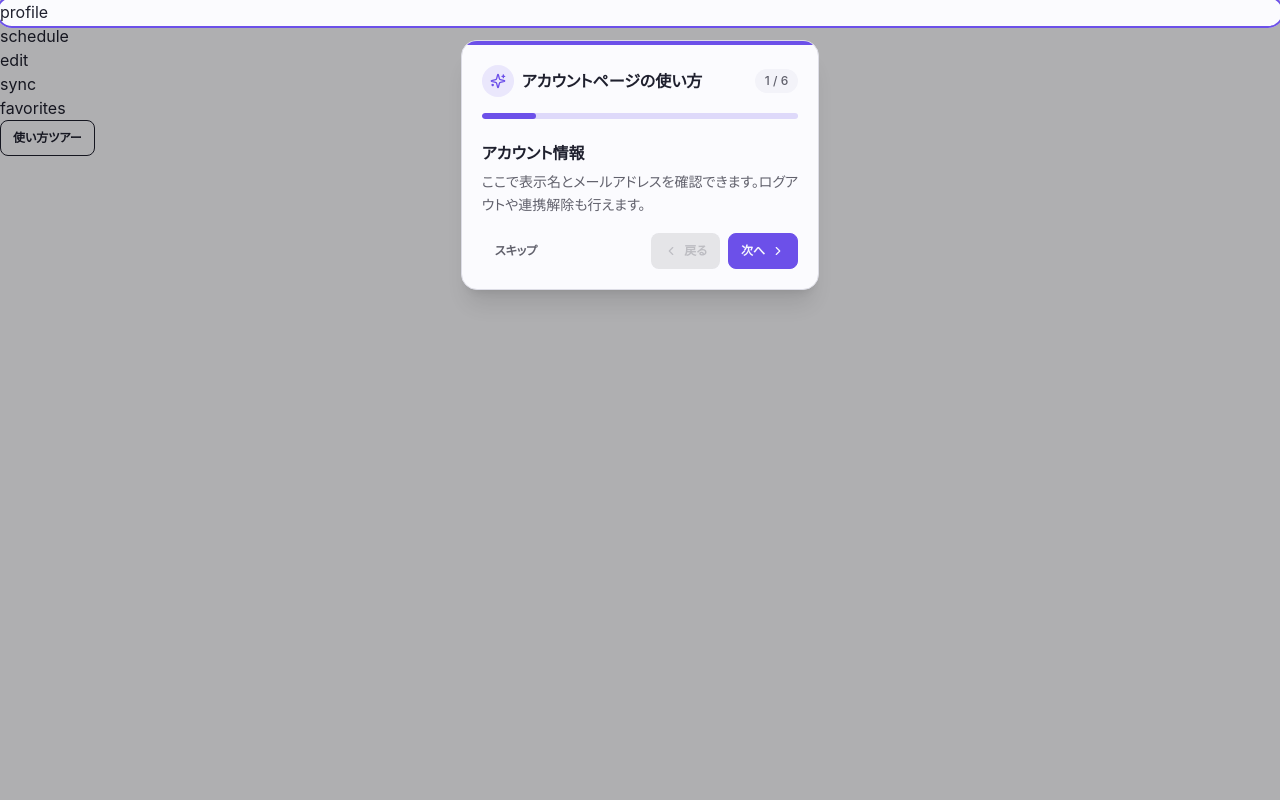
Test: AccountPageTour › 次のステップへ進むと予定の設定の説明を表示する
Expected: the text "アカウント情報" is shown, [482,143,584,163]
Expected: the text "1 / 6" is shown, [755,69,798,93]
Click the button with test id "account-tour-next". click: (763, 250)
box: [728,232,798,268]
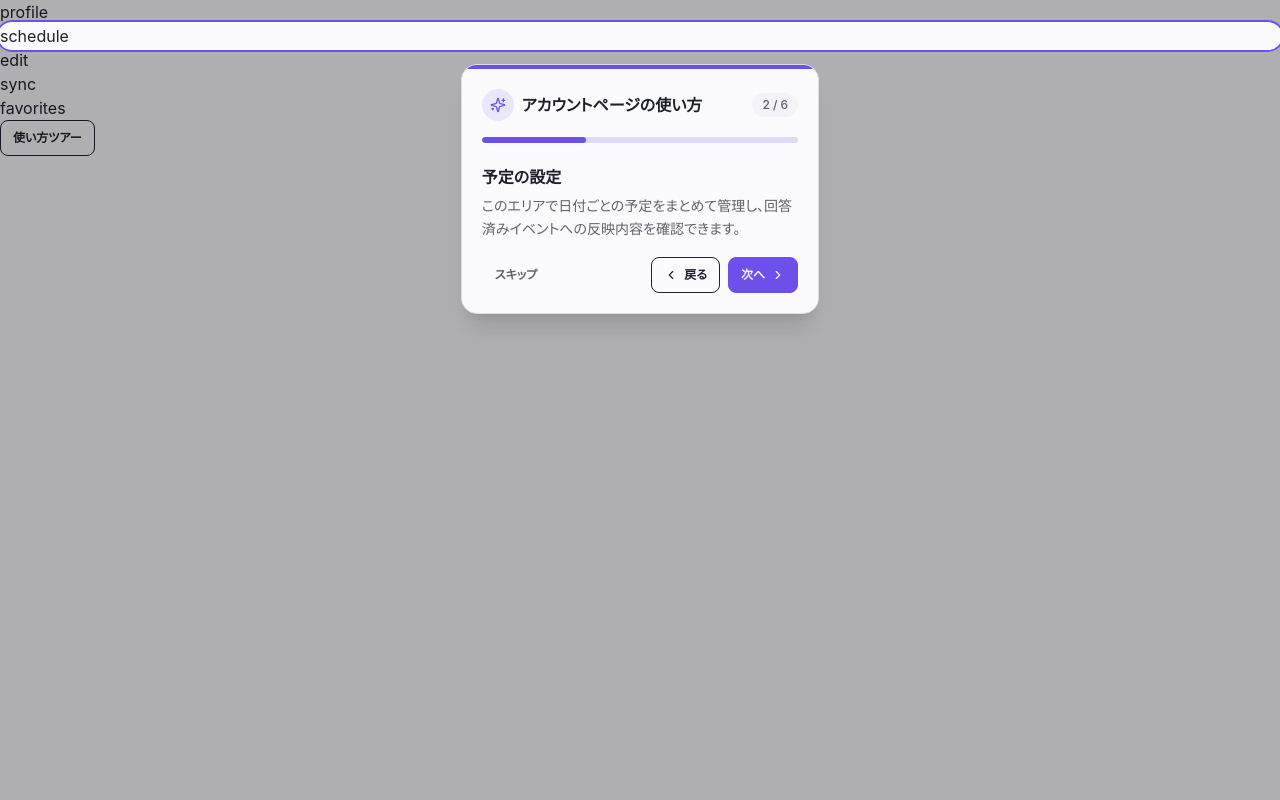
Result: the text "予定の設定" is shown at [482,167,561,187]
Result: the text "2 / 6" is shown at [752,93,798,117]
